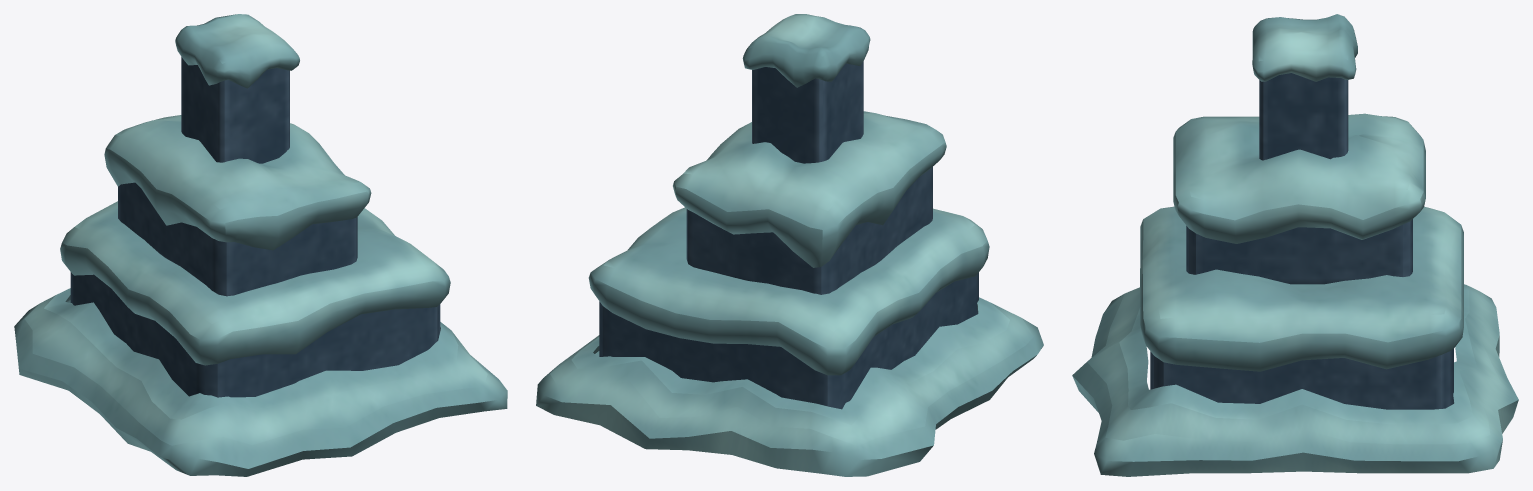
The model's file is SM_Tomb2_V2.fbx.
3 views of the same model, side by side, from view 1: azimuth 30°, elevation 25°; view 2: azimuth 150°, elevation 25°; view 3: azimuth 270°, elevation 25° (orthographic). The views are drawn at different scales.
Visible parts, largest first — view 1: SM_Tomb2_Snow4, SM_Tomb2, SM_Tomb2_Snow2, SM_Tomb2_Snow3, SM_Tomb2_Snow1; view 2: SM_Tomb2_Snow4, SM_Tomb2, SM_Tomb2_Snow2, SM_Tomb2_Snow3, SM_Tomb2_Snow1; view 3: SM_Tomb2_Snow4, SM_Tomb2_Snow2, SM_Tomb2, SM_Tomb2_Snow3, SM_Tomb2_Snow1.
Boxes of the visible parts, x1,y1,x2,y2 form: SM_Tomb2_Snow4: (14, 288, 507, 476); SM_Tomb2: (70, 57, 440, 397); SM_Tomb2_Snow2: (60, 201, 450, 365); SM_Tomb2_Snow3: (104, 115, 371, 250); SM_Tomb2_Snow1: (175, 14, 299, 88); SM_Tomb2_Snow4: (536, 297, 1043, 476); SM_Tomb2: (599, 61, 978, 409); SM_Tomb2_Snow2: (588, 207, 989, 375); SM_Tomb2_Snow3: (673, 111, 946, 267); SM_Tomb2_Snow1: (742, 14, 870, 87); SM_Tomb2_Snow4: (1072, 284, 1518, 476); SM_Tomb2_Snow2: (1140, 206, 1463, 371); SM_Tomb2: (1150, 73, 1453, 409); SM_Tomb2_Snow3: (1173, 113, 1425, 243); SM_Tomb2_Snow1: (1252, 14, 1357, 81).
Size of the model in its own units: 2.38 by 2.29 by 2.54.
